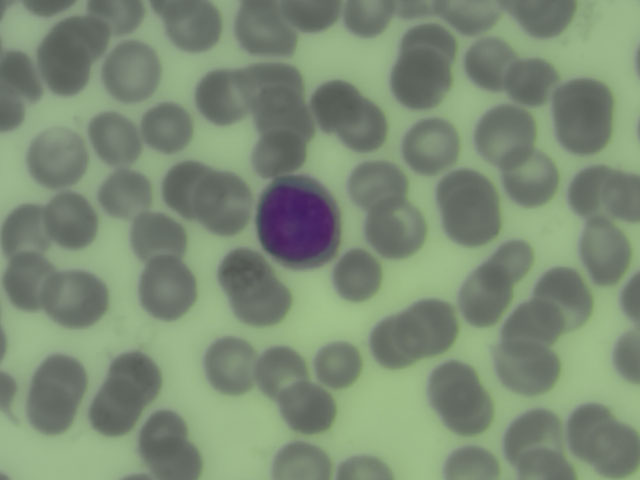RBC: (99, 41, 163, 105), (28, 356, 84, 428), (557, 80, 613, 151), (440, 177, 498, 242), (41, 25, 95, 88), (581, 219, 631, 283), (506, 57, 565, 111), (1, 53, 46, 122), (269, 434, 333, 480), (503, 1, 577, 39), (312, 340, 363, 392), (89, 382, 140, 434), (112, 346, 163, 398), (138, 263, 189, 315), (130, 213, 181, 265), (54, 273, 105, 325), (48, 195, 99, 247), (98, 168, 149, 220), (162, 162, 213, 214), (197, 173, 248, 225), (33, 132, 84, 184), (140, 104, 191, 156), (90, 116, 141, 168), (371, 203, 422, 255), (350, 156, 401, 208), (408, 119, 459, 171), (504, 153, 555, 205), (480, 109, 531, 161), (464, 38, 515, 90), (396, 56, 447, 108), (340, 101, 391, 153), (309, 80, 360, 132), (254, 127, 305, 179), (258, 91, 309, 143), (250, 62, 301, 114), (196, 69, 247, 121), (568, 166, 619, 218), (460, 269, 511, 321), (137, 402, 188, 454), (335, 248, 386, 300), (202, 340, 253, 392), (238, 276, 289, 328), (567, 402, 618, 454), (589, 428, 640, 480), (407, 301, 458, 353), (499, 343, 550, 395), (509, 303, 560, 355), (541, 271, 592, 323), (369, 318, 420, 370), (445, 388, 496, 440), (426, 355, 477, 407), (513, 408, 564, 460), (283, 380, 334, 432), (254, 344, 305, 396), (1, 257, 51, 309), (1, 207, 51, 259), (236, 1, 287, 51), (603, 324, 640, 391), (486, 237, 540, 278), (169, 1, 217, 47), (403, 21, 460, 59), (220, 245, 265, 291), (147, 443, 197, 480), (509, 452, 575, 480), (443, 1, 503, 30), (443, 451, 502, 480), (343, 1, 389, 37), (287, 1, 336, 34), (87, 1, 148, 27), (339, 453, 395, 480)
WBC: (246, 168, 342, 267)
